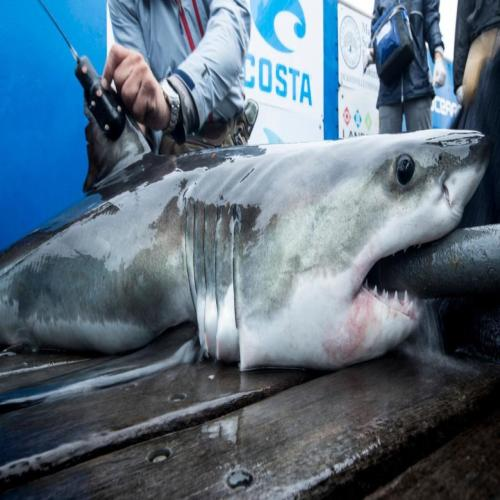shark-endangered: (28, 107, 496, 387)
